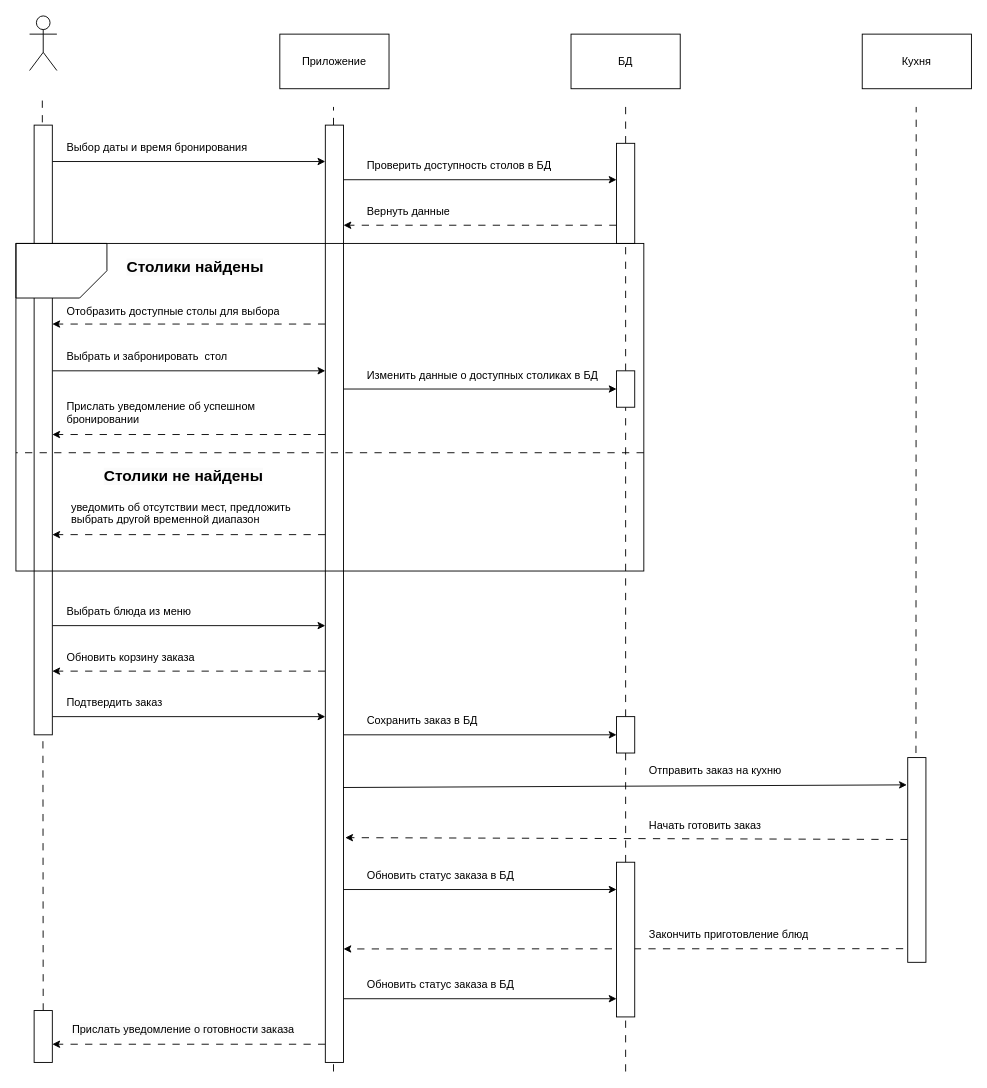
Some shapes in this 987 by 1088 pixel diagram are drawn without their labels. Each missing label, with the centre of its shape:
ALT: (x=61, y=270)
Клиент: (x=43, y=43)
